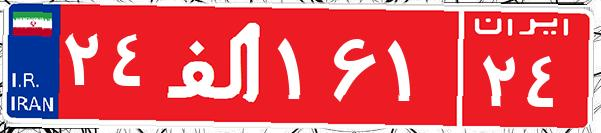1: (385, 28, 445, 110), (273, 28, 330, 110)
2: (57, 26, 110, 107), (475, 38, 525, 113)
4: (110, 28, 158, 105), (525, 38, 570, 115)
6: (330, 28, 385, 110)
الف: (158, 15, 273, 115)
